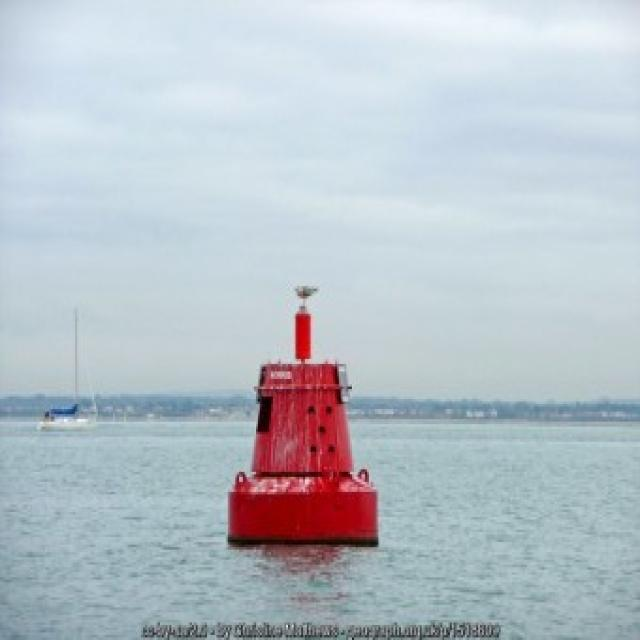2.1 lateral mark -P-: (226, 264, 388, 548)
